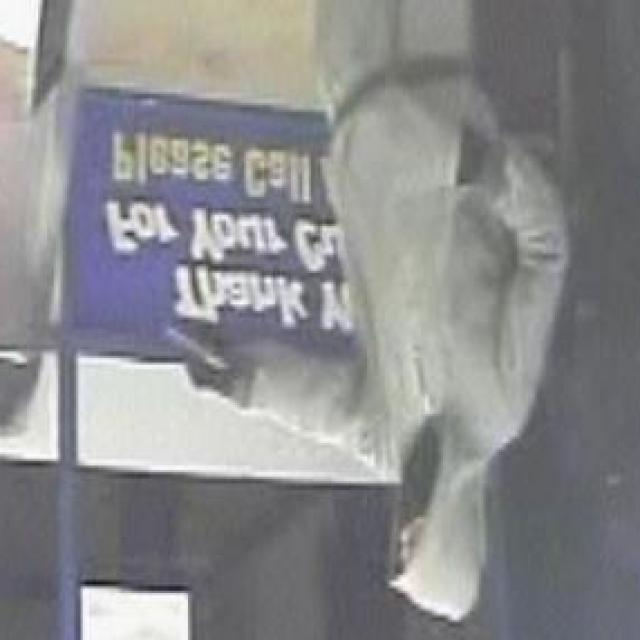pistol: (152, 308, 233, 392)
